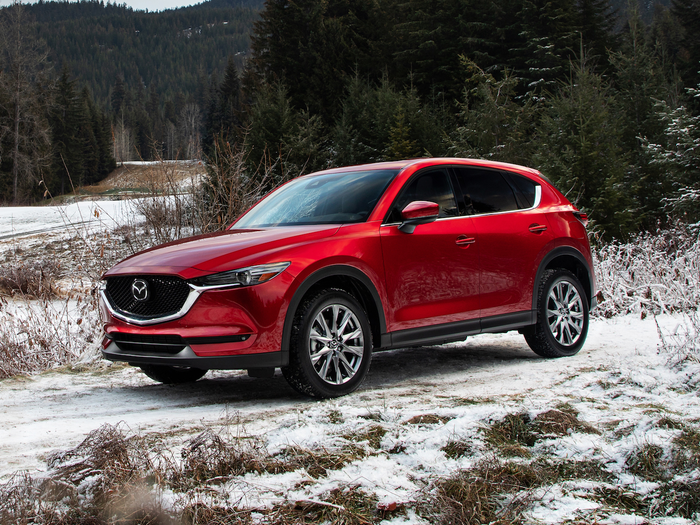car: (97, 156, 597, 398)
